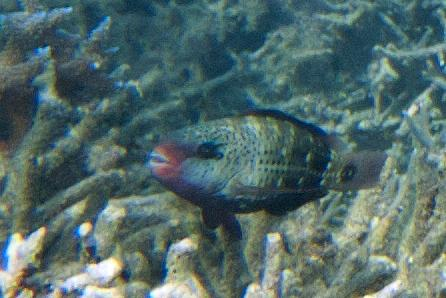Scaridae -Parrotfishes-: (145, 104, 386, 238)
